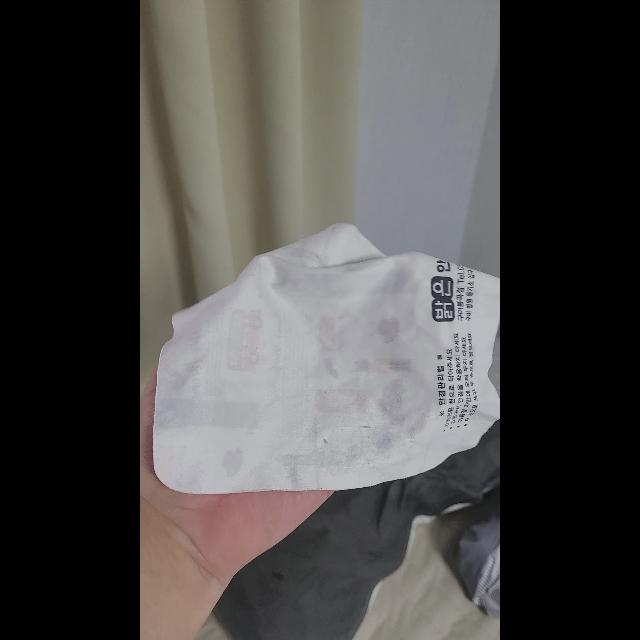Glasses cleaning cloth: (152, 223, 500, 494)
